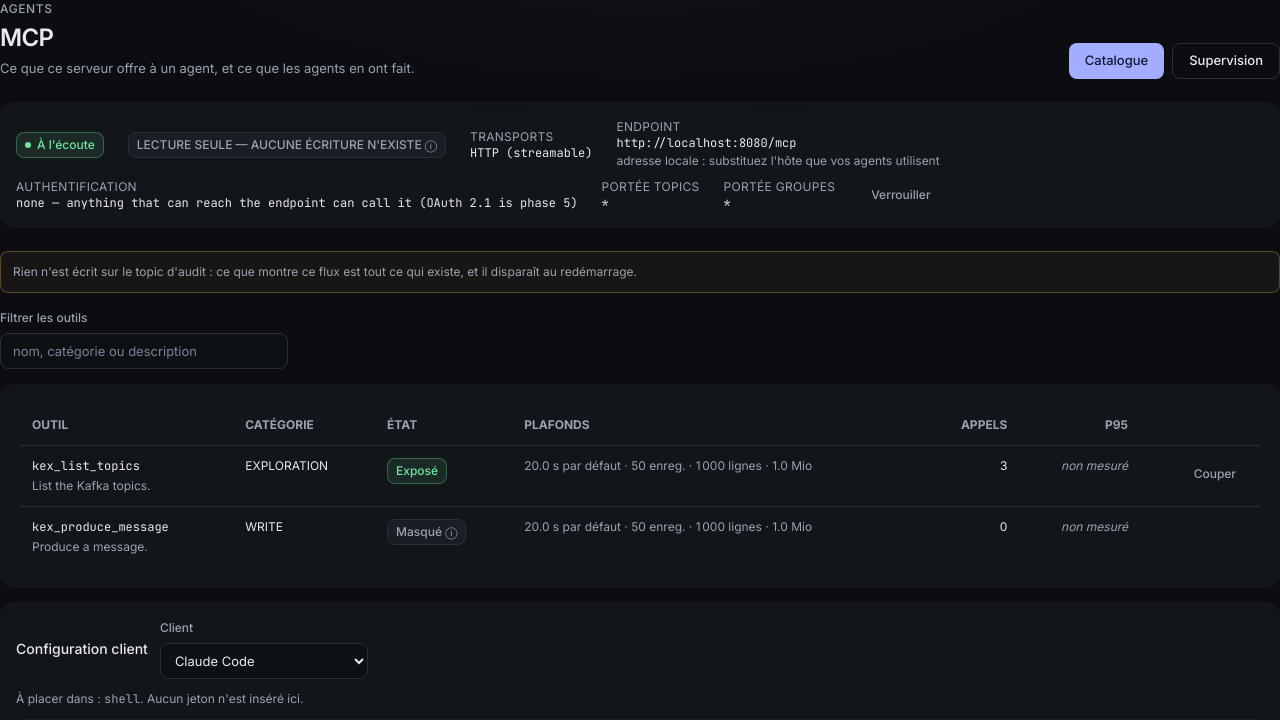
Test: les leviers du commutateur › demande une raison avant de couper un outil, et rien avant de le rétablir
Expected: the text "kex_list_topics" is shown, [32, 458, 140, 474]
Click the button "Couper" at [1215, 474], box [1182, 458, 1248, 490]
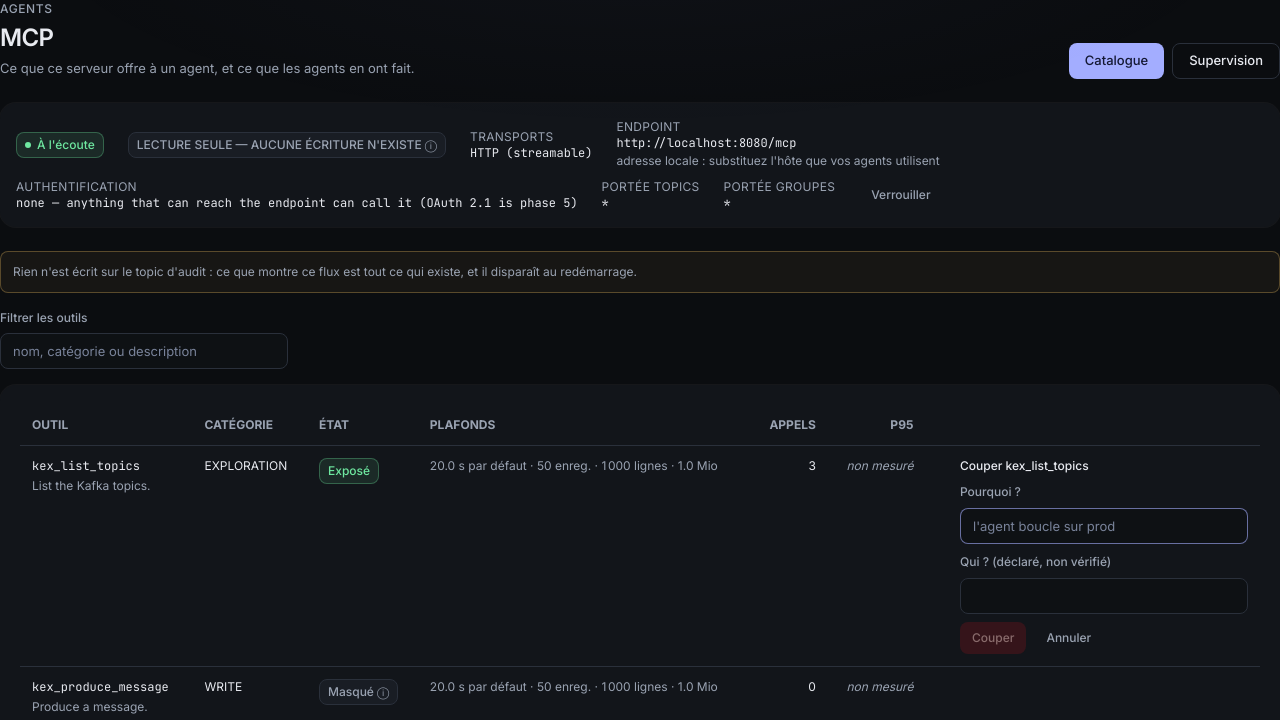
Result: the text "Couper kex_list_topics" is shown at [960, 458, 1089, 473]
Result: the button "Couper" is disabled at [960, 622, 1026, 654]
